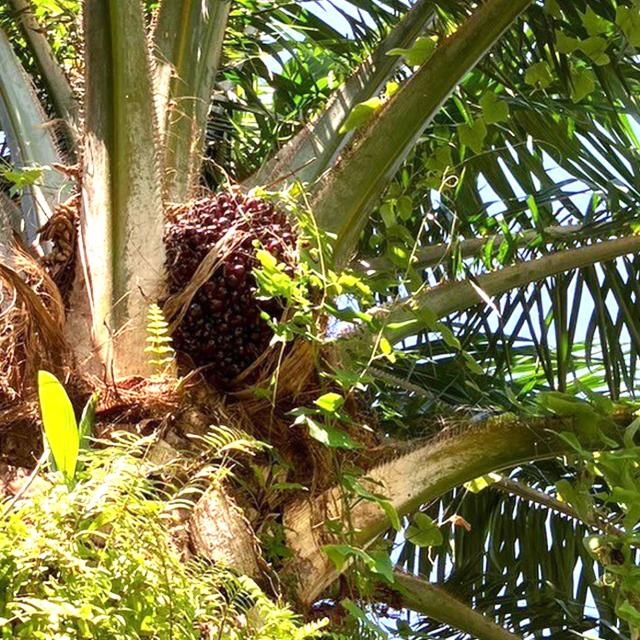ripe: (169, 196, 306, 365)
